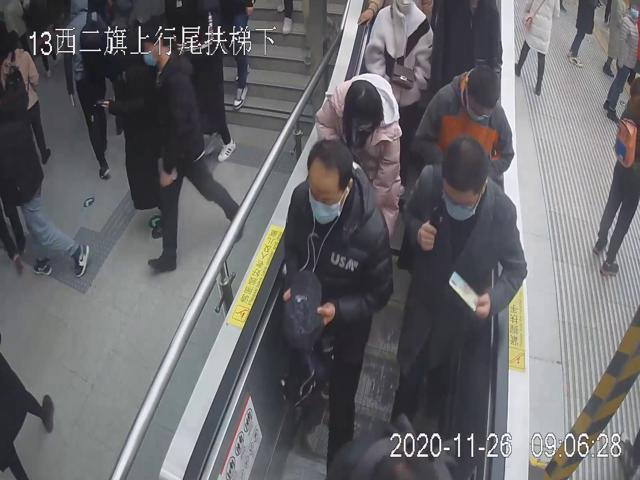person: (397, 137, 529, 455), (274, 137, 395, 480), (141, 17, 246, 275), (314, 72, 401, 250), (409, 60, 516, 183)
